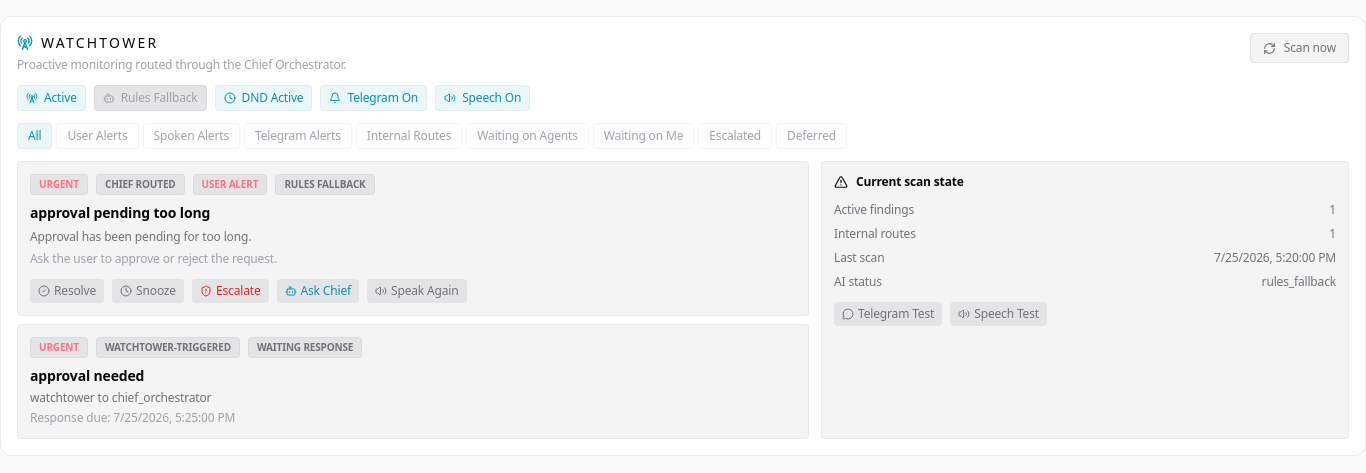
Test case: WatchtowerPanel › renders spoken and Telegram alert tabs
Click the button "Spoken Alerts" at (191, 136), box [143,123,240,149]
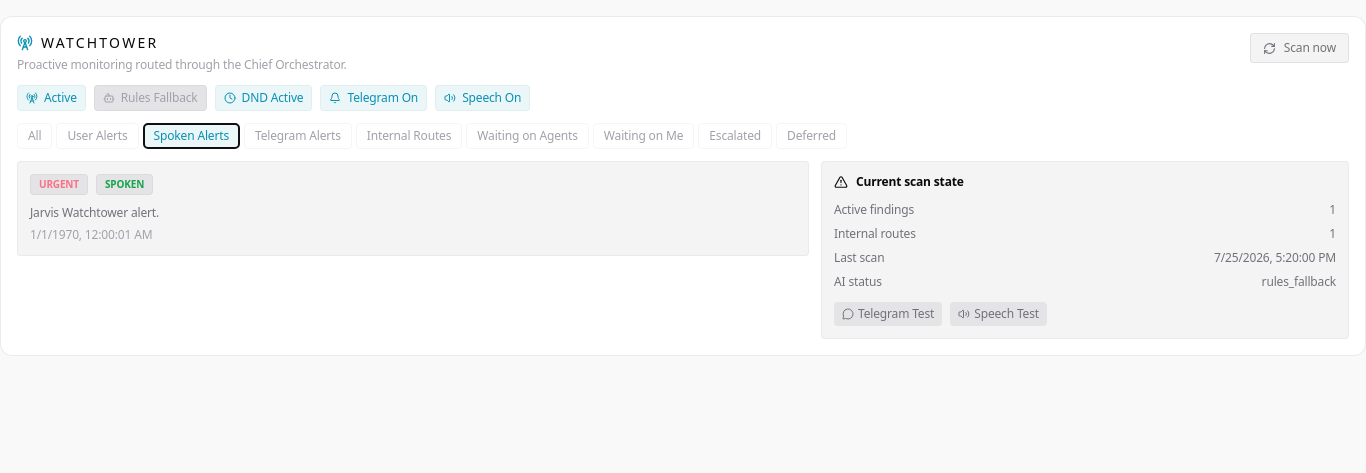
Result: the text "Jarvis Watchtower alert." is shown at [30,204,159,221]
Click the button "Telegram Alerts" at (298, 136), box [244,123,352,149]
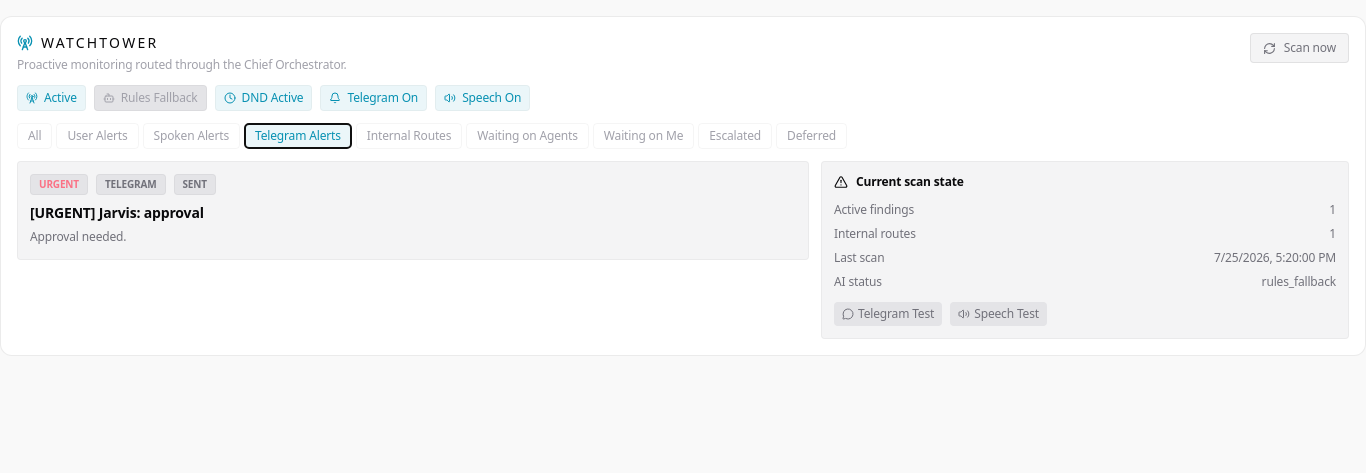
Result: the heading "[URGENT] Jarvis: approval" is shown at [30,203,204,222]
